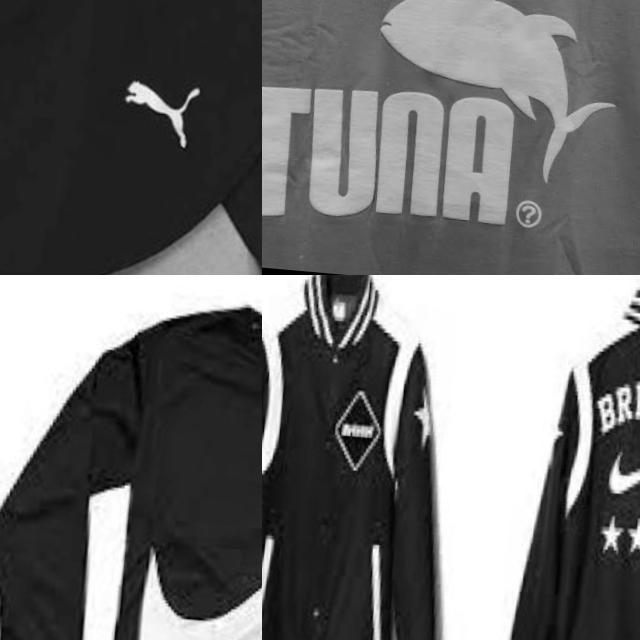NIKE_fake: (122, 386, 262, 640)
NIKE_original: (600, 436, 640, 524)
PUMA_fake: (262, 0, 637, 275)
PUMA_original: (113, 59, 214, 164)
